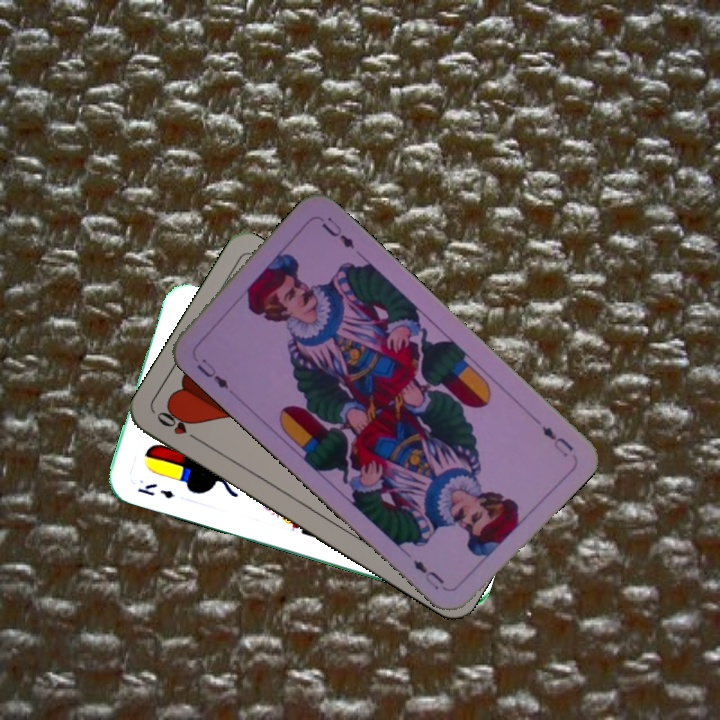EK: (134, 479, 176, 502)
EU: (537, 421, 576, 460), (192, 354, 232, 391)
HO: (152, 407, 205, 445)
